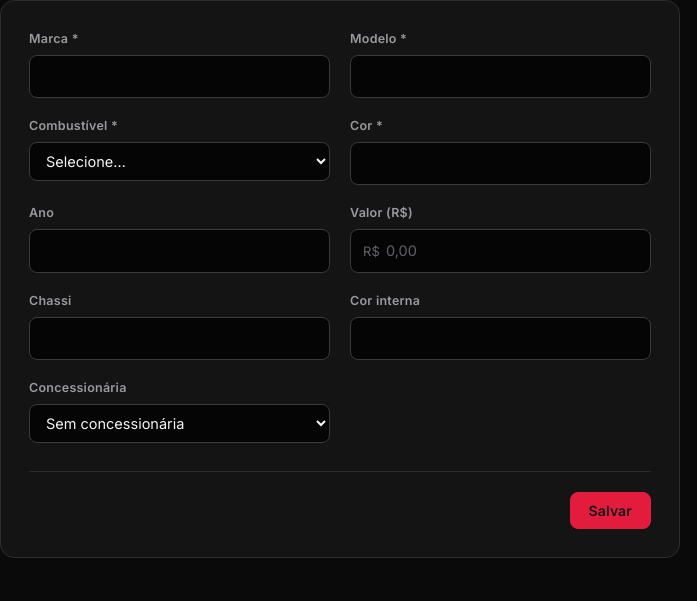
Test: VehicleForm › validates ano range
Type "Toyota" into the field labelled "Marca *".
click(180, 77); type("Toyota")  # box 29,55 -> 330,98
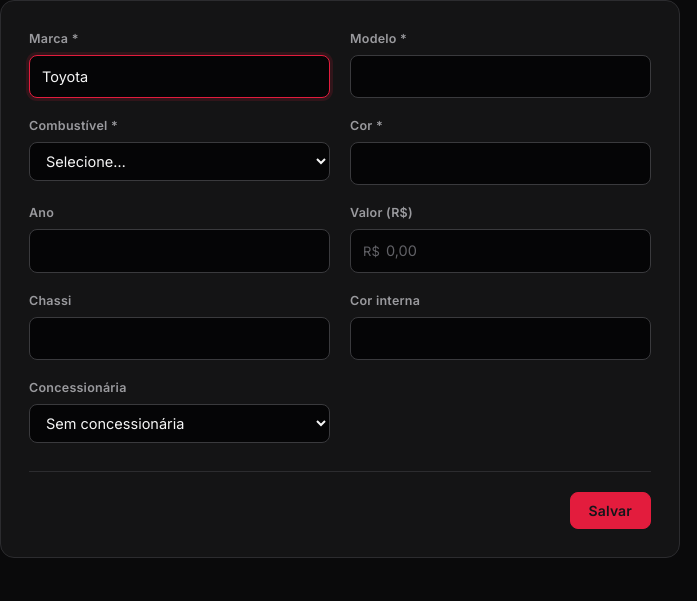
Type "Corolla" into the field labelled "Modelo *".
click(500, 77); type("Corolla")  # box 350,55 -> 651,98
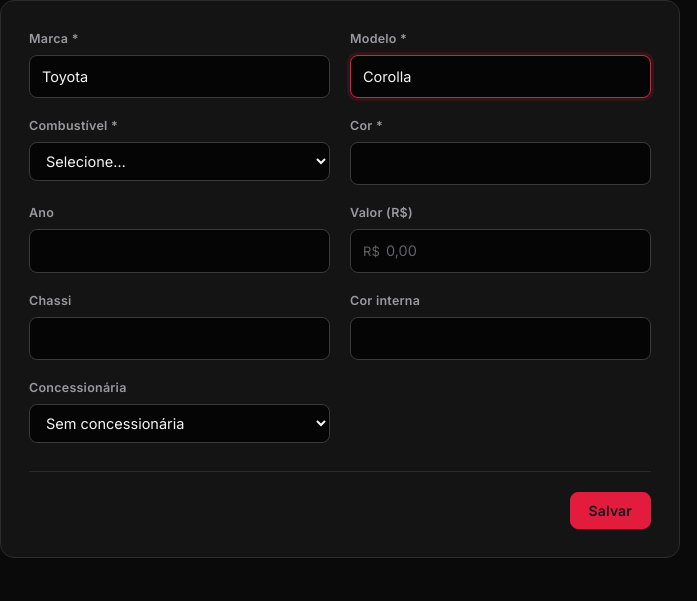
Select "Flex" in the dropdown labelled "Combustível *" at [180, 162], box 29,142 -> 330,181
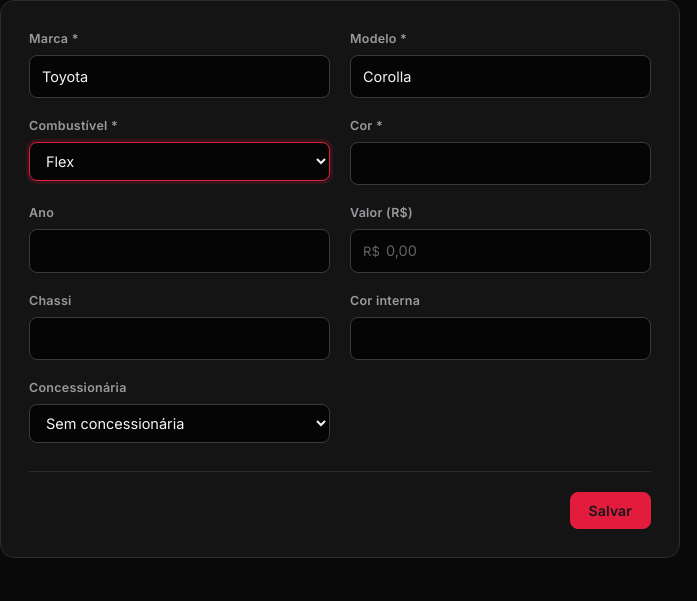
Type "Prata" into the field labelled "Cor *".
click(500, 164); type("Prata")  # box 350,142 -> 651,185
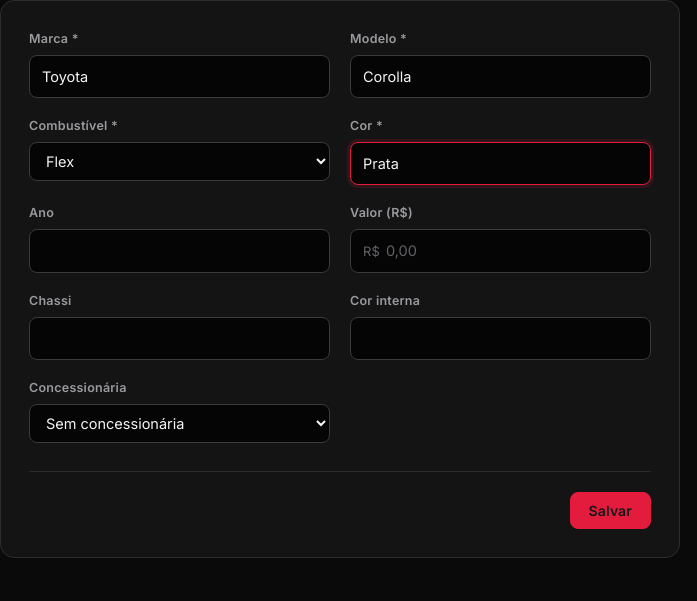
Type "1800" into the number field labelled "Ano".
click(180, 251); type("1800")  # box 29,229 -> 330,273
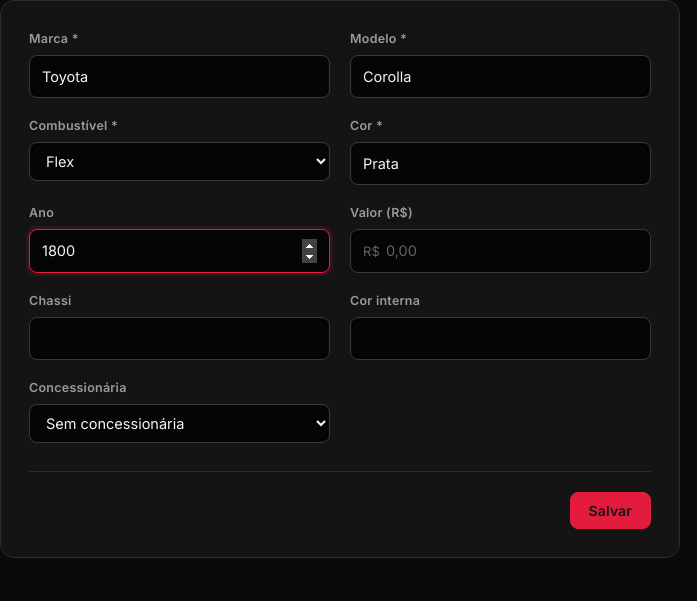
Click the button "Salvar".
click(610, 510)  # box 570,492 -> 651,529
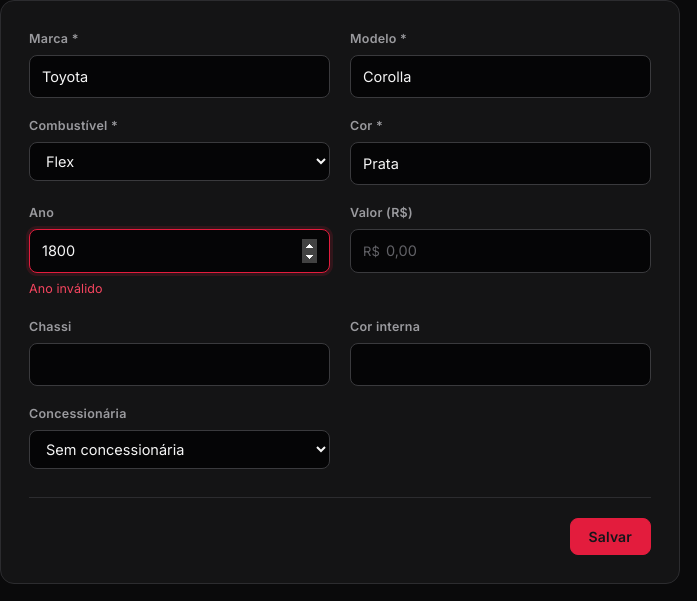
Expected: the text "Ano inválido" is shown, 29,281 -> 103,296
